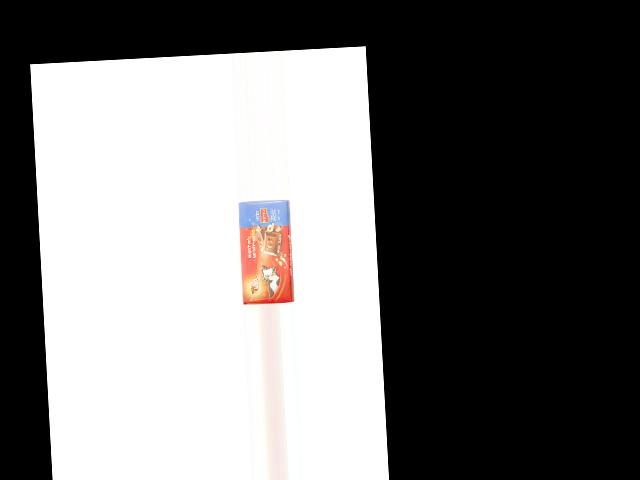chocolate: (238, 200, 299, 304)
